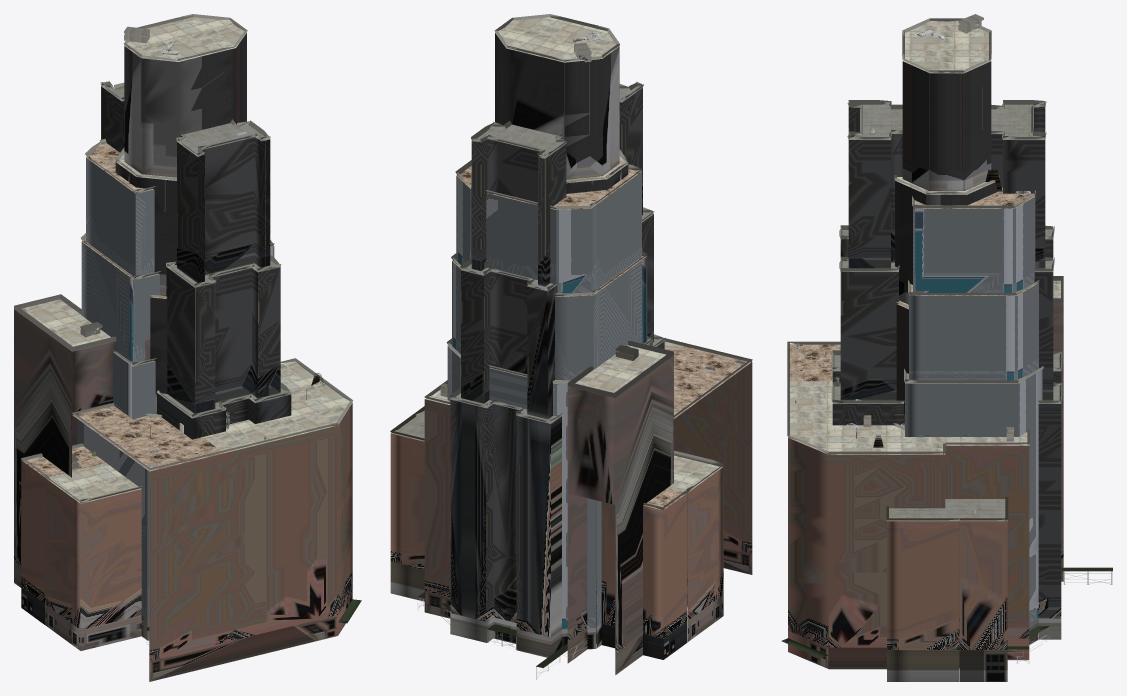
File: continent_city.glb
3 views of the same model, side by side, from view 1: azimuth 30°, elevation 25°; view 2: azimuth 150°, elevation 25°; view 3: azimuth 270°, elevation 25° (orthographic).
Visible parts, largest first — view 1: continent_31, continent_14, continent_15, continent_07, continent_28; view 2: continent_14, continent_31, continent_28, continent_15, continent_07; view 3: continent_31, continent_28, continent_14, continent_15, continent_07.
Part boxes in pixels (<box>): continent_31: <box>14,294,361,681</box>; continent_14: <box>100,81,291,439</box>; continent_15: <box>21,443,141,650</box>; continent_07: <box>113,14,247,417</box>; continent_28: <box>77,138,274,644</box>; continent_14: <box>449,81,665,657</box>; continent_31: <box>418,338,752,679</box>; continent_28: <box>441,160,653,649</box>; continent_15: <box>390,406,723,659</box>; continent_07: <box>494,14,628,193</box>; continent_31: <box>781,276,1112,669</box>; continent_28: <box>904,169,1049,651</box>; continent_14: <box>831,100,1062,639</box>; continent_15: <box>886,497,1008,681</box>; continent_07: <box>893,14,999,435</box>.
Size of the model in its own units: 5.05 by 10.1 by 5.26.
23 materials, 18 textured.
